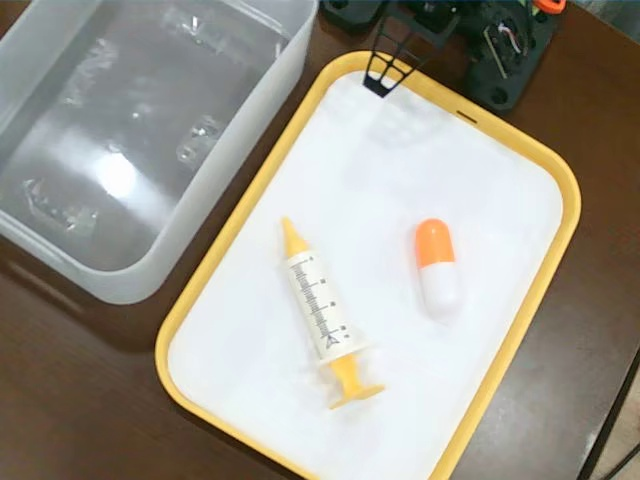pill: (411, 216, 470, 318)
syringe: (272, 213, 388, 416)
